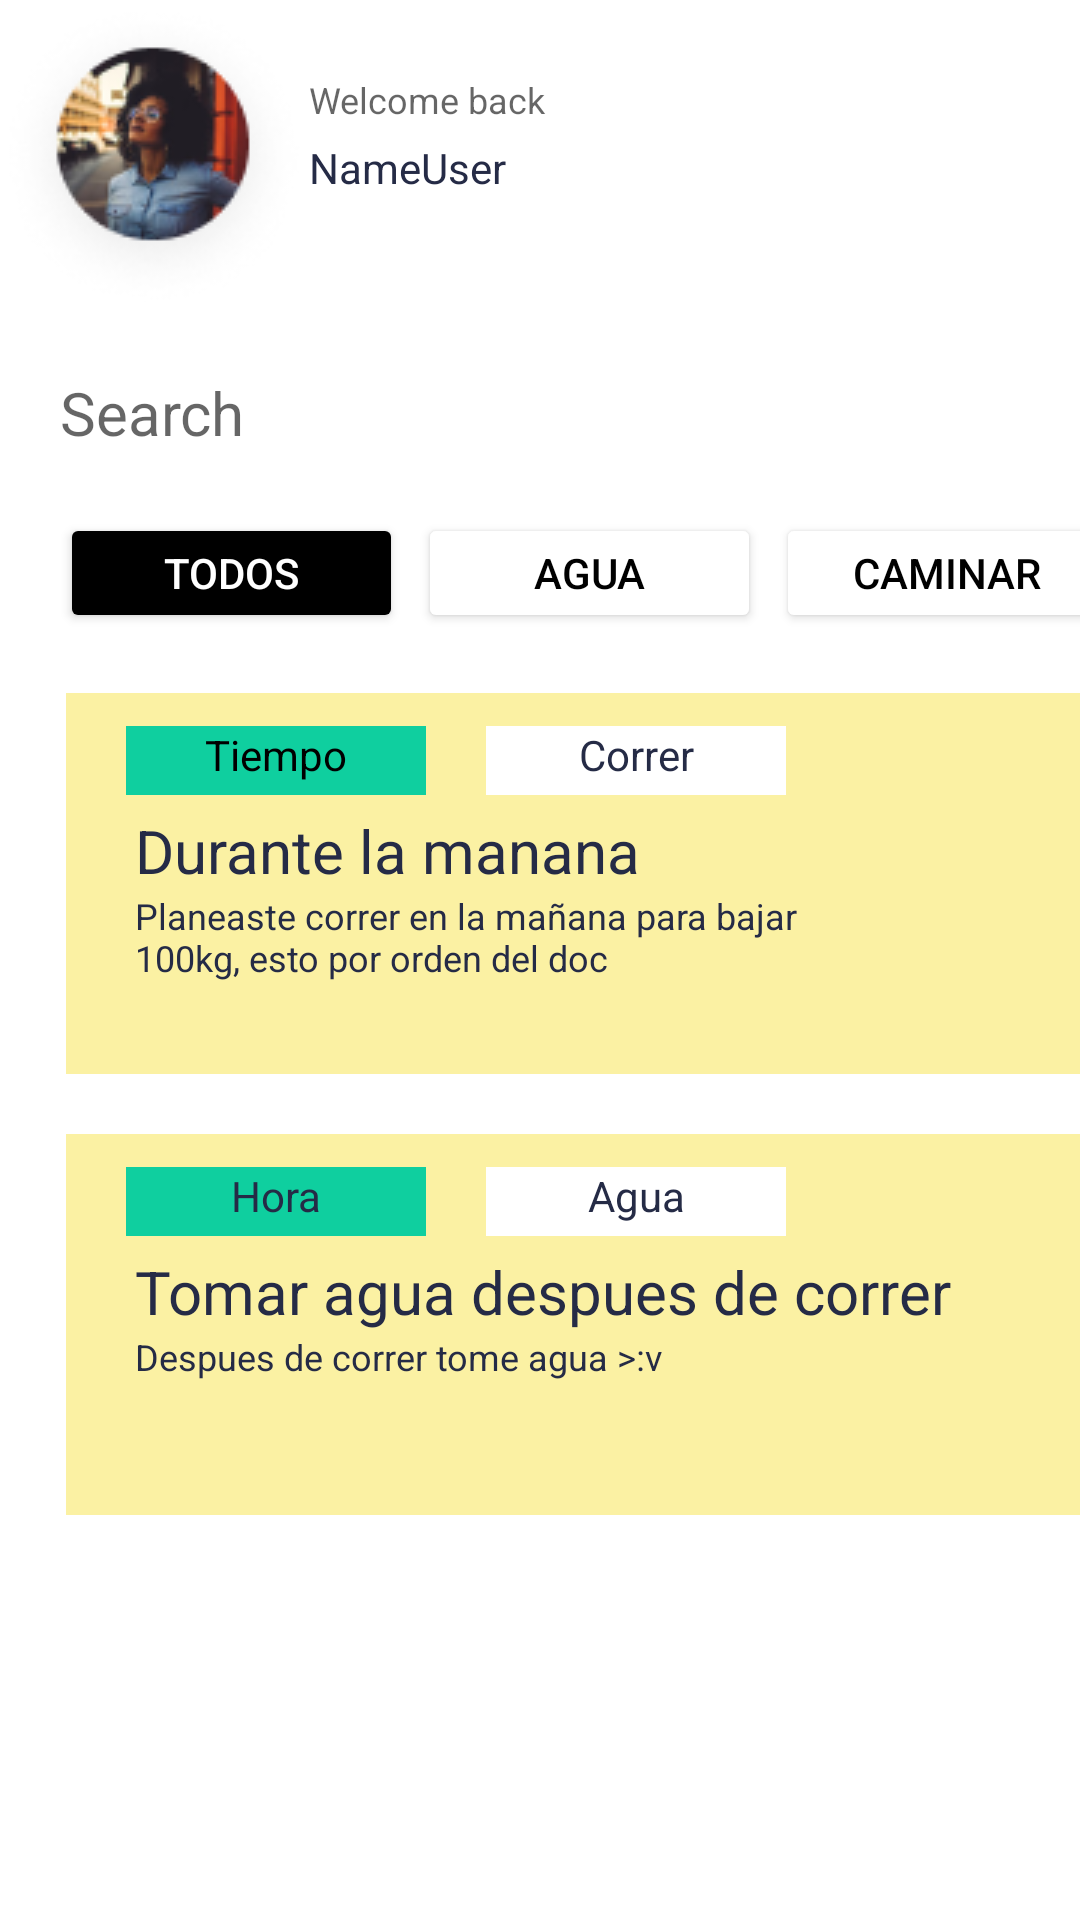

Where icons sit on this 1080x1920 app screen, as (x1, y1, x2, y2):
profile: (56, 47, 250, 241)
